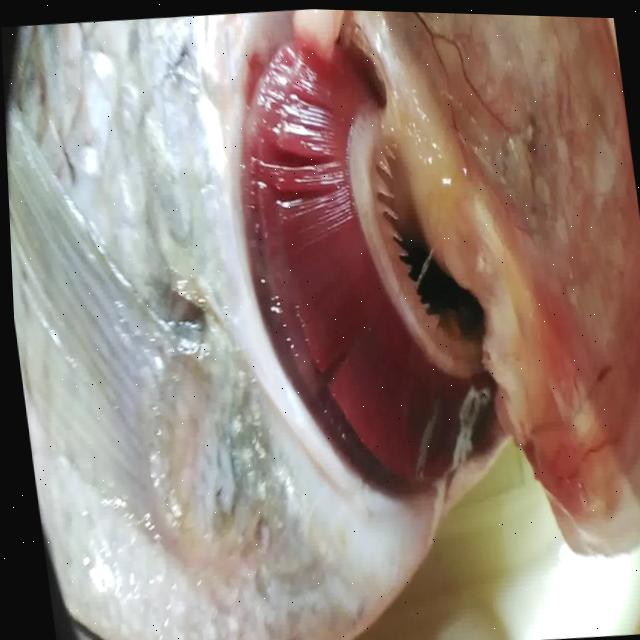Fresh: (196, 20, 530, 535)
